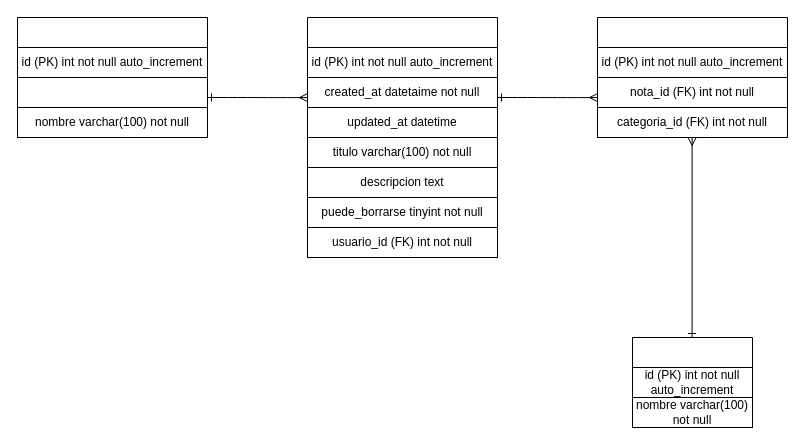
The diagram is 805 pixels wide and 445 high, and some of its shapes have lost their labels. Here are the shapes that lost their labels. From the top down, the box of each, then its label:
(16, 16, 208, 138): usuarios
(16, 76, 208, 108): email varchar(100) not null
(306, 16, 498, 138): notas
(596, 16, 788, 138): notas_categorias
(632, 336, 752, 428): categorias
